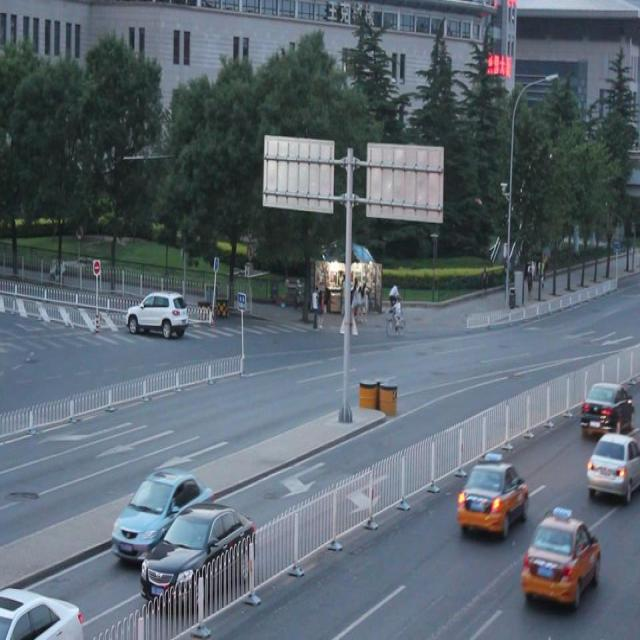car: (140, 502, 256, 600), (112, 468, 213, 556), (522, 509, 599, 602), (454, 455, 530, 536), (0, 580, 82, 640), (584, 431, 640, 498), (578, 378, 640, 433), (125, 288, 188, 339)
